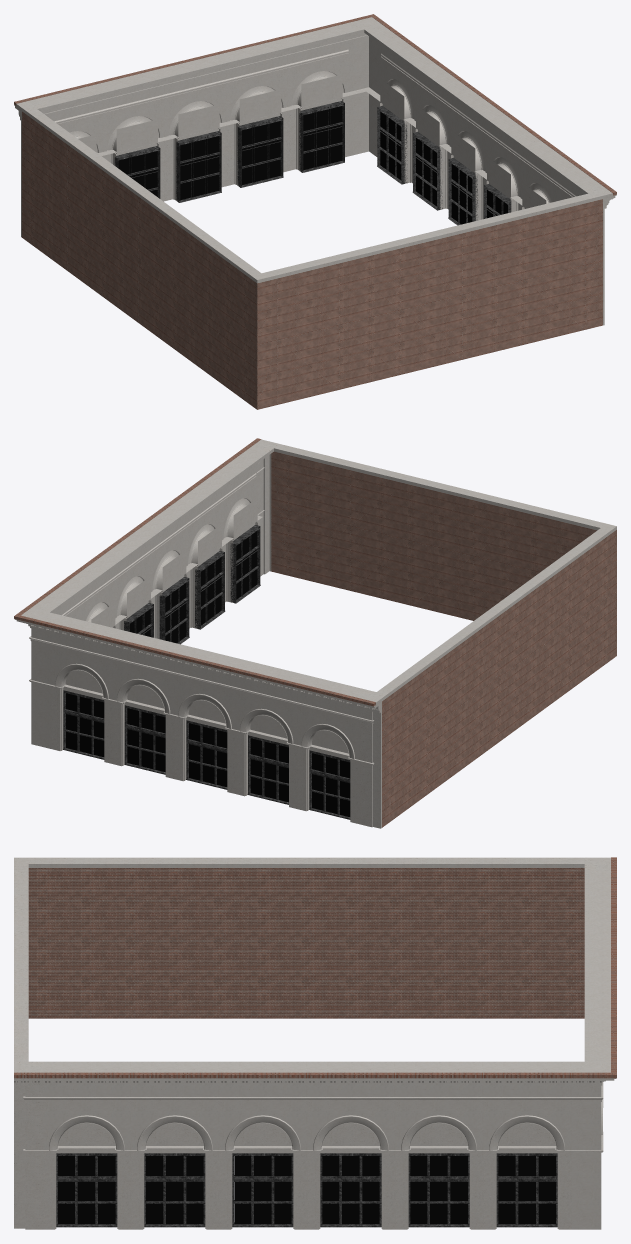
File: BuildingC_Top_Shell_VarA.fbx
3 renders of one model, top to bottom at view 1: azimuth 30°, elevation 25°; view 2: azimuth 150°, elevation 25°; view 3: azimuth 270°, elevation 25°, orthographic. The views are drawn at different scales.
Parts seen in each view (by area): view 1: BuildingC_Top_Shell_VarA; view 2: BuildingC_Top_Shell_VarA; view 3: BuildingC_Top_Shell_VarA.
Boxes of the visible parts, box(x1,y1,x2,y2) form: BuildingC_Top_Shell_VarA: box(14, 14, 616, 409); BuildingC_Top_Shell_VarA: box(14, 438, 616, 828); BuildingC_Top_Shell_VarA: box(14, 857, 616, 1229).
Size of the model in its own units: 1754 by 606 by 2054.
